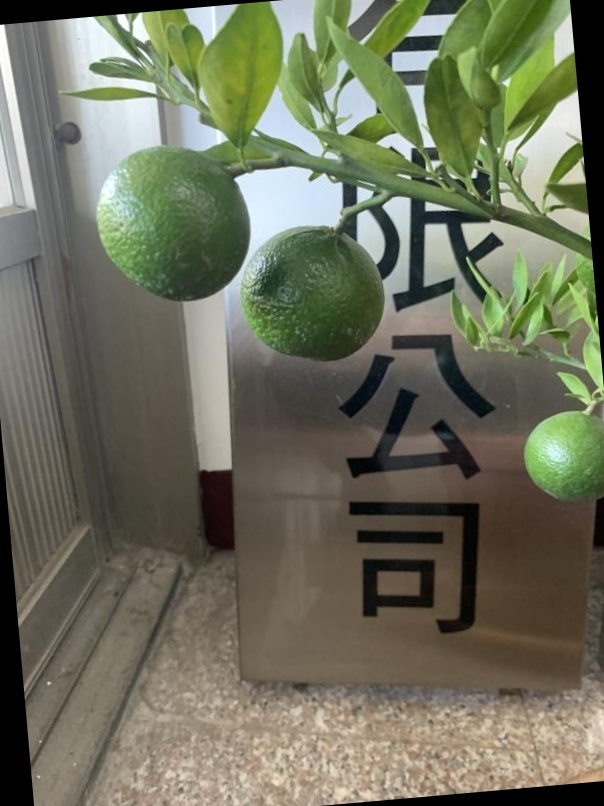Tangerine: (92, 144, 252, 300), (242, 220, 389, 360), (527, 407, 603, 502)
